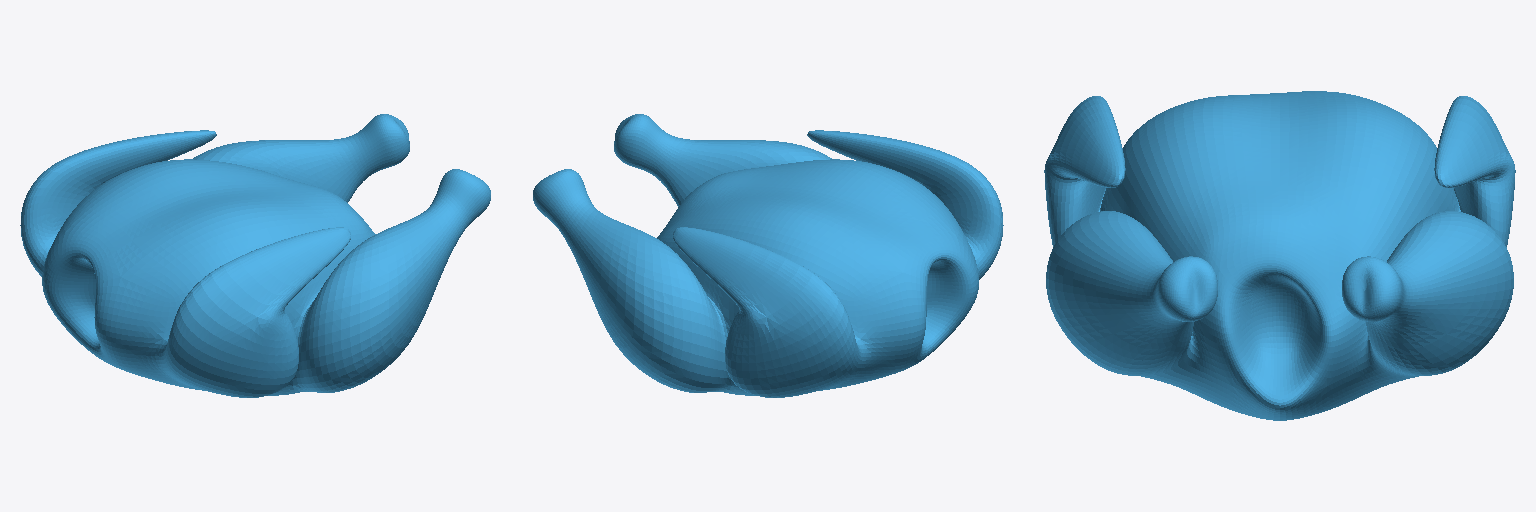
URDF robot description (chicken):
<?xml version="1.0" ?>
<robot name="chicken">
	<link name="base"/>
	<link name="link_1">
		<visual name="body-6">
			<origin xyz="0 0 0"/>
			<geometry>
				<mesh filename="chicken.obj"/>
			</geometry>
		</visual>
		<collision>
			<origin xyz="0 0 0"/>
			<geometry>
				<mesh filename="chicken.obj"/>
			</geometry>
		</collision>
	</link>
	<joint name="joint_1" type="fixed">
		<origin rpy="1.570796326794897 1.570796326794897 -1.570796326794897" xyz="0 0 0"/>
		<child link="link_1"/>
		<parent link="base"/>
	</joint>
</robot>

--- What the picture shows (computed from the rendered views, not written in the file) ---
The picture shows the robot from 3 angles, left to right: view 1: azimuth 30°, elevation 25°; view 2: azimuth 150°, elevation 25°; view 3: azimuth 270°, elevation 25°; orthographic projection.
Model chicken with 2 links and 1 joints (1 fixed), rooted at base, posed all joints at 0.
Visible links, largest first — view 1: link_1; view 2: link_1; view 3: link_1.
Boxes of the visible links, x1=… form: link_1: x1=20, y1=114, x2=490, y2=397; link_1: x1=533, y1=114, x2=1003, y2=397; link_1: x1=1044, y1=91, x2=1515, y2=420.
Size in the robot's own frame: 321 by 288 by 166 metres.
1 mesh visuals loaded from 1 distinct referenced files (1 OBJ).
